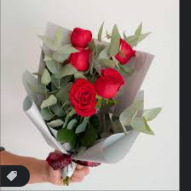RedRose: (64, 79, 102, 118), (94, 66, 129, 99), (67, 25, 95, 49), (68, 50, 91, 78), (112, 41, 139, 64)
